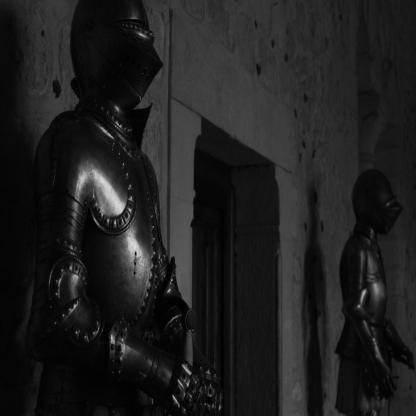Helmet: (72, 0, 164, 110), (351, 168, 402, 235)
